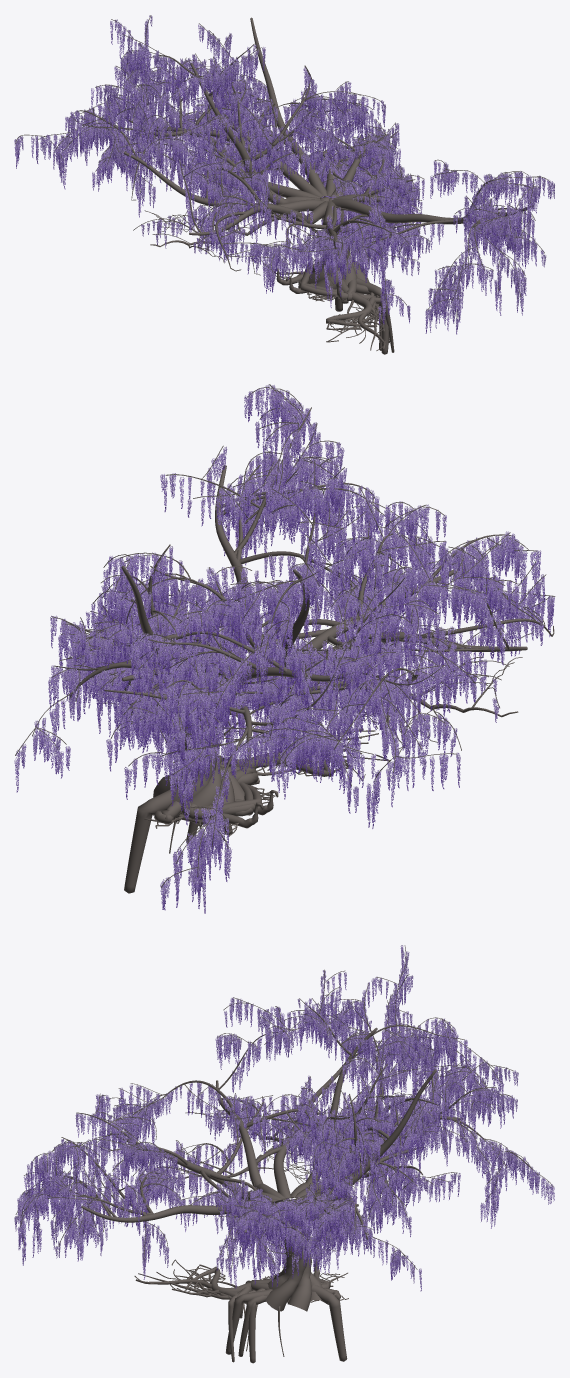
Rendered from wisteria_2.glb.
3 renders of one model, top to bottom at view 1: azimuth 30°, elevation 25°; view 2: azimuth 150°, elevation 25°; view 3: azimuth 270°, elevation 25°, orthographic. The views are drawn at different scales.
Visible parts, largest first — view 1: Wisteria2_Blossom, Wisteria2_Bark; view 2: Wisteria2_Blossom, Wisteria2_Bark; view 3: Wisteria2_Blossom, Wisteria2_Bark.
Boxes of the visible parts, x1,y1,x2,y2 form: Wisteria2_Blossom: [14, 15, 554, 334]; Wisteria2_Bark: [15, 15, 549, 354]; Wisteria2_Blossom: [14, 384, 554, 913]; Wisteria2_Bark: [15, 384, 555, 893]; Wisteria2_Blossom: [14, 945, 554, 1291]; Wisteria2_Bark: [15, 945, 553, 1363].
Bounding box in the file's own units: 33.64 × 29.02 × 43.86.
2 materials, 1 textured.
